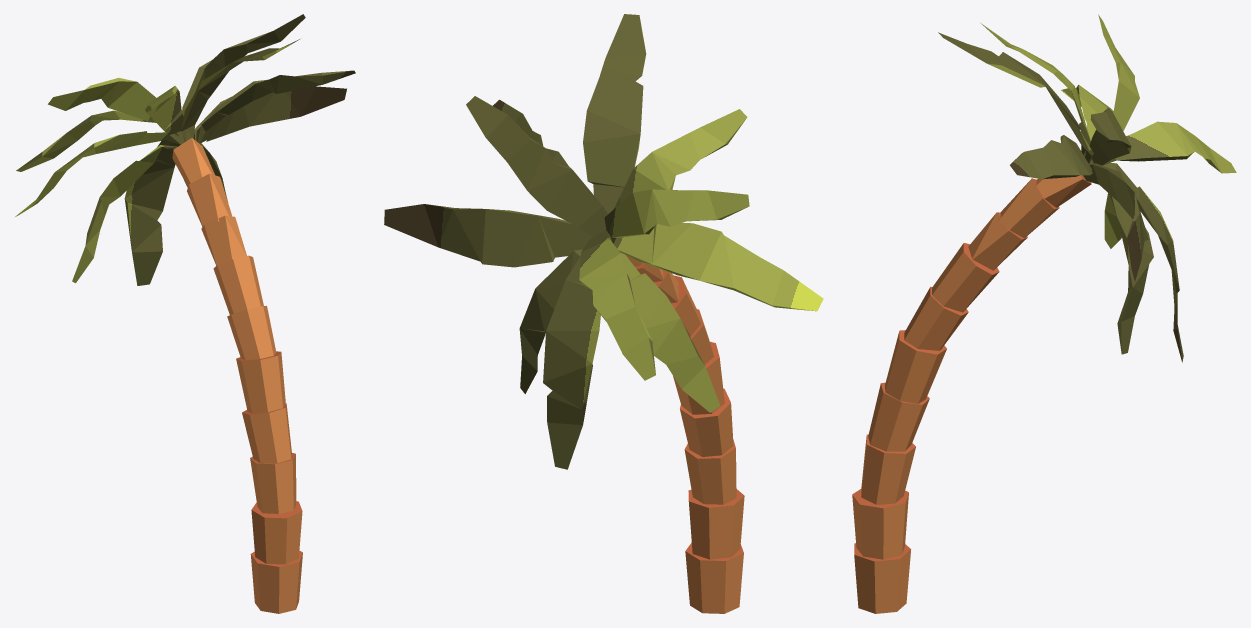
Rendered from Palm Tree 2 Low.fbx.
3 views of the same model, side by side, from view 1: azimuth 30°, elevation 25°; view 2: azimuth 150°, elevation 25°; view 3: azimuth 270°, elevation 25° (orthographic). The views are drawn at different scales.
Parts seen in each view (by area): view 1: Tree-2; view 2: Tree-2; view 3: Tree-2.
Boxes of the visible parts, box(x1,y1,x2,y2) form: Tree-2: box(15, 14, 355, 613); Tree-2: box(384, 14, 823, 613); Tree-2: box(852, 14, 1236, 613).
Size of the model in its own units: 338 by 479 by 281.
